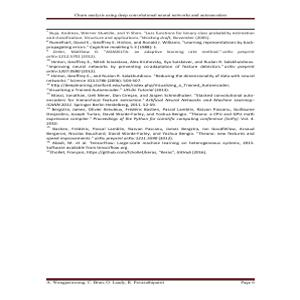text: (44, 30, 255, 159)
